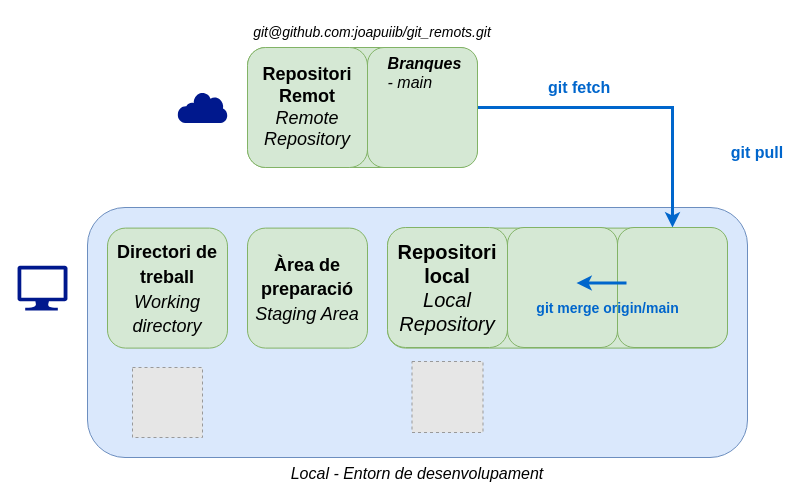
Image size: 804x500. Some labels were removed from this diagram. Grey dashed boxes stand in for pictures. Each missing label, with the centre of its shape:
Branques locals - main: the point at 562,287
Branques remotes - origin/main: the point at 672,287
